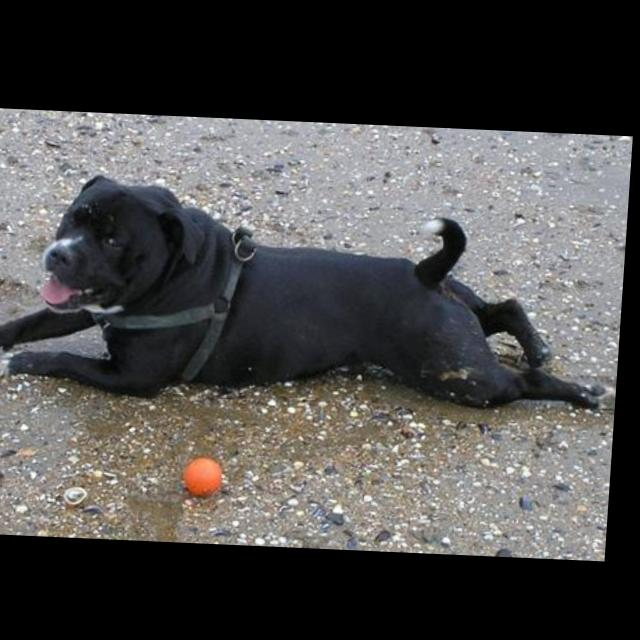staffford: (1, 169, 632, 412)
